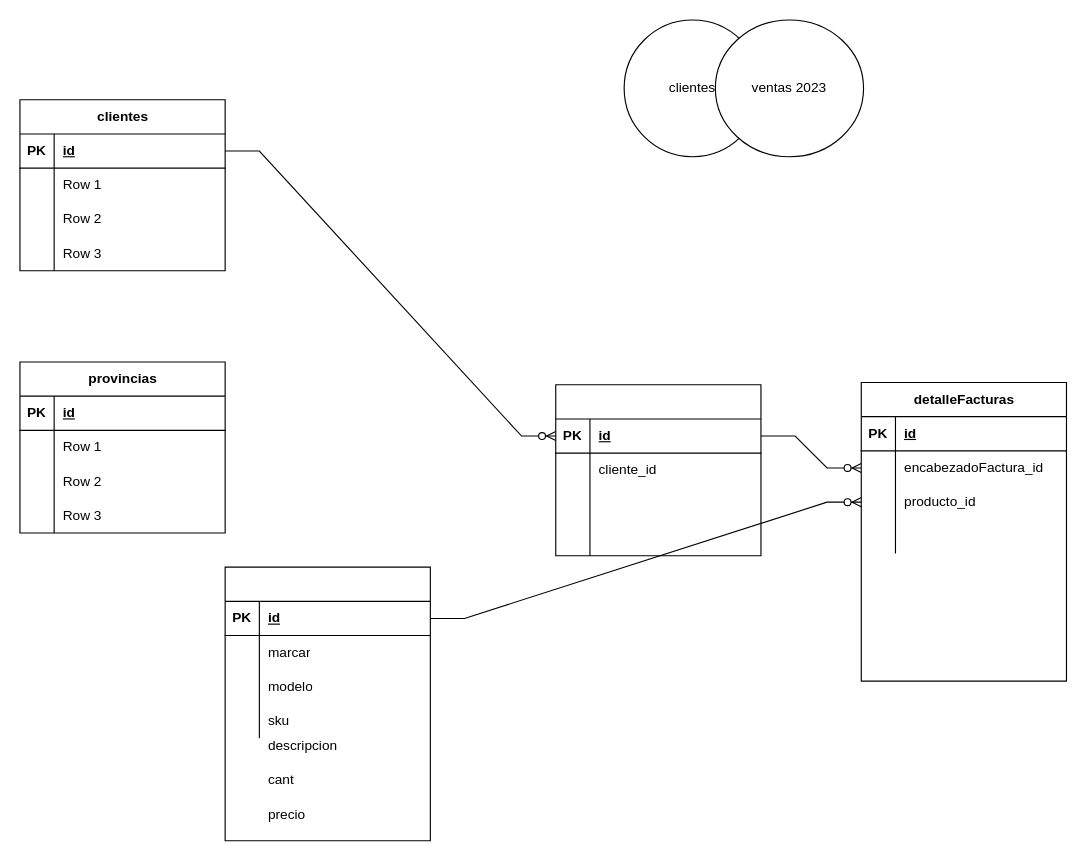
Some shapes in this 1086 by 861 pixel diagram are drawn without their labels. The shapes that lost their labels are listed below. From the top down, each one's box as (x1, y1, x2, y2) in pixels, then its label:
(555, 384, 761, 556): encabezadoFacturas
(224, 566, 430, 841): productos
